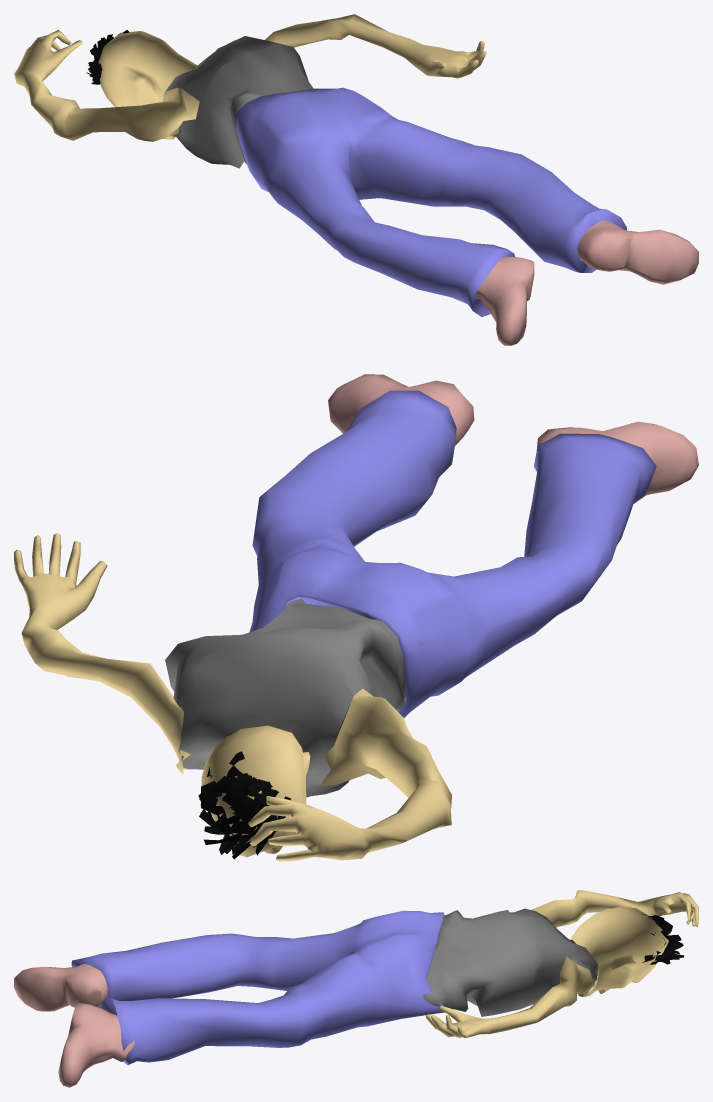
The model's file is Cadavre_03.fbx.
The picture shows the model from 3 angles, top to bottom: view 1: azimuth 30°, elevation 25°; view 2: azimuth 150°, elevation 25°; view 3: azimuth 270°, elevation 25°; orthographic projection. The views are drawn at different scales.
Parts seen in each view (by area): view 1: Cadavre_03; view 2: Cadavre_03; view 3: Cadavre_03.
Boxes of the visible parts, left/top/right/bottom form: Cadavre_03: left=14, top=14, right=698, bottom=345; Cadavre_03: left=14, top=374, right=698, bottom=861; Cadavre_03: left=14, top=890, right=698, bottom=1087.
Size of the model in its own units: 94.7 by 26.73 by 170.
